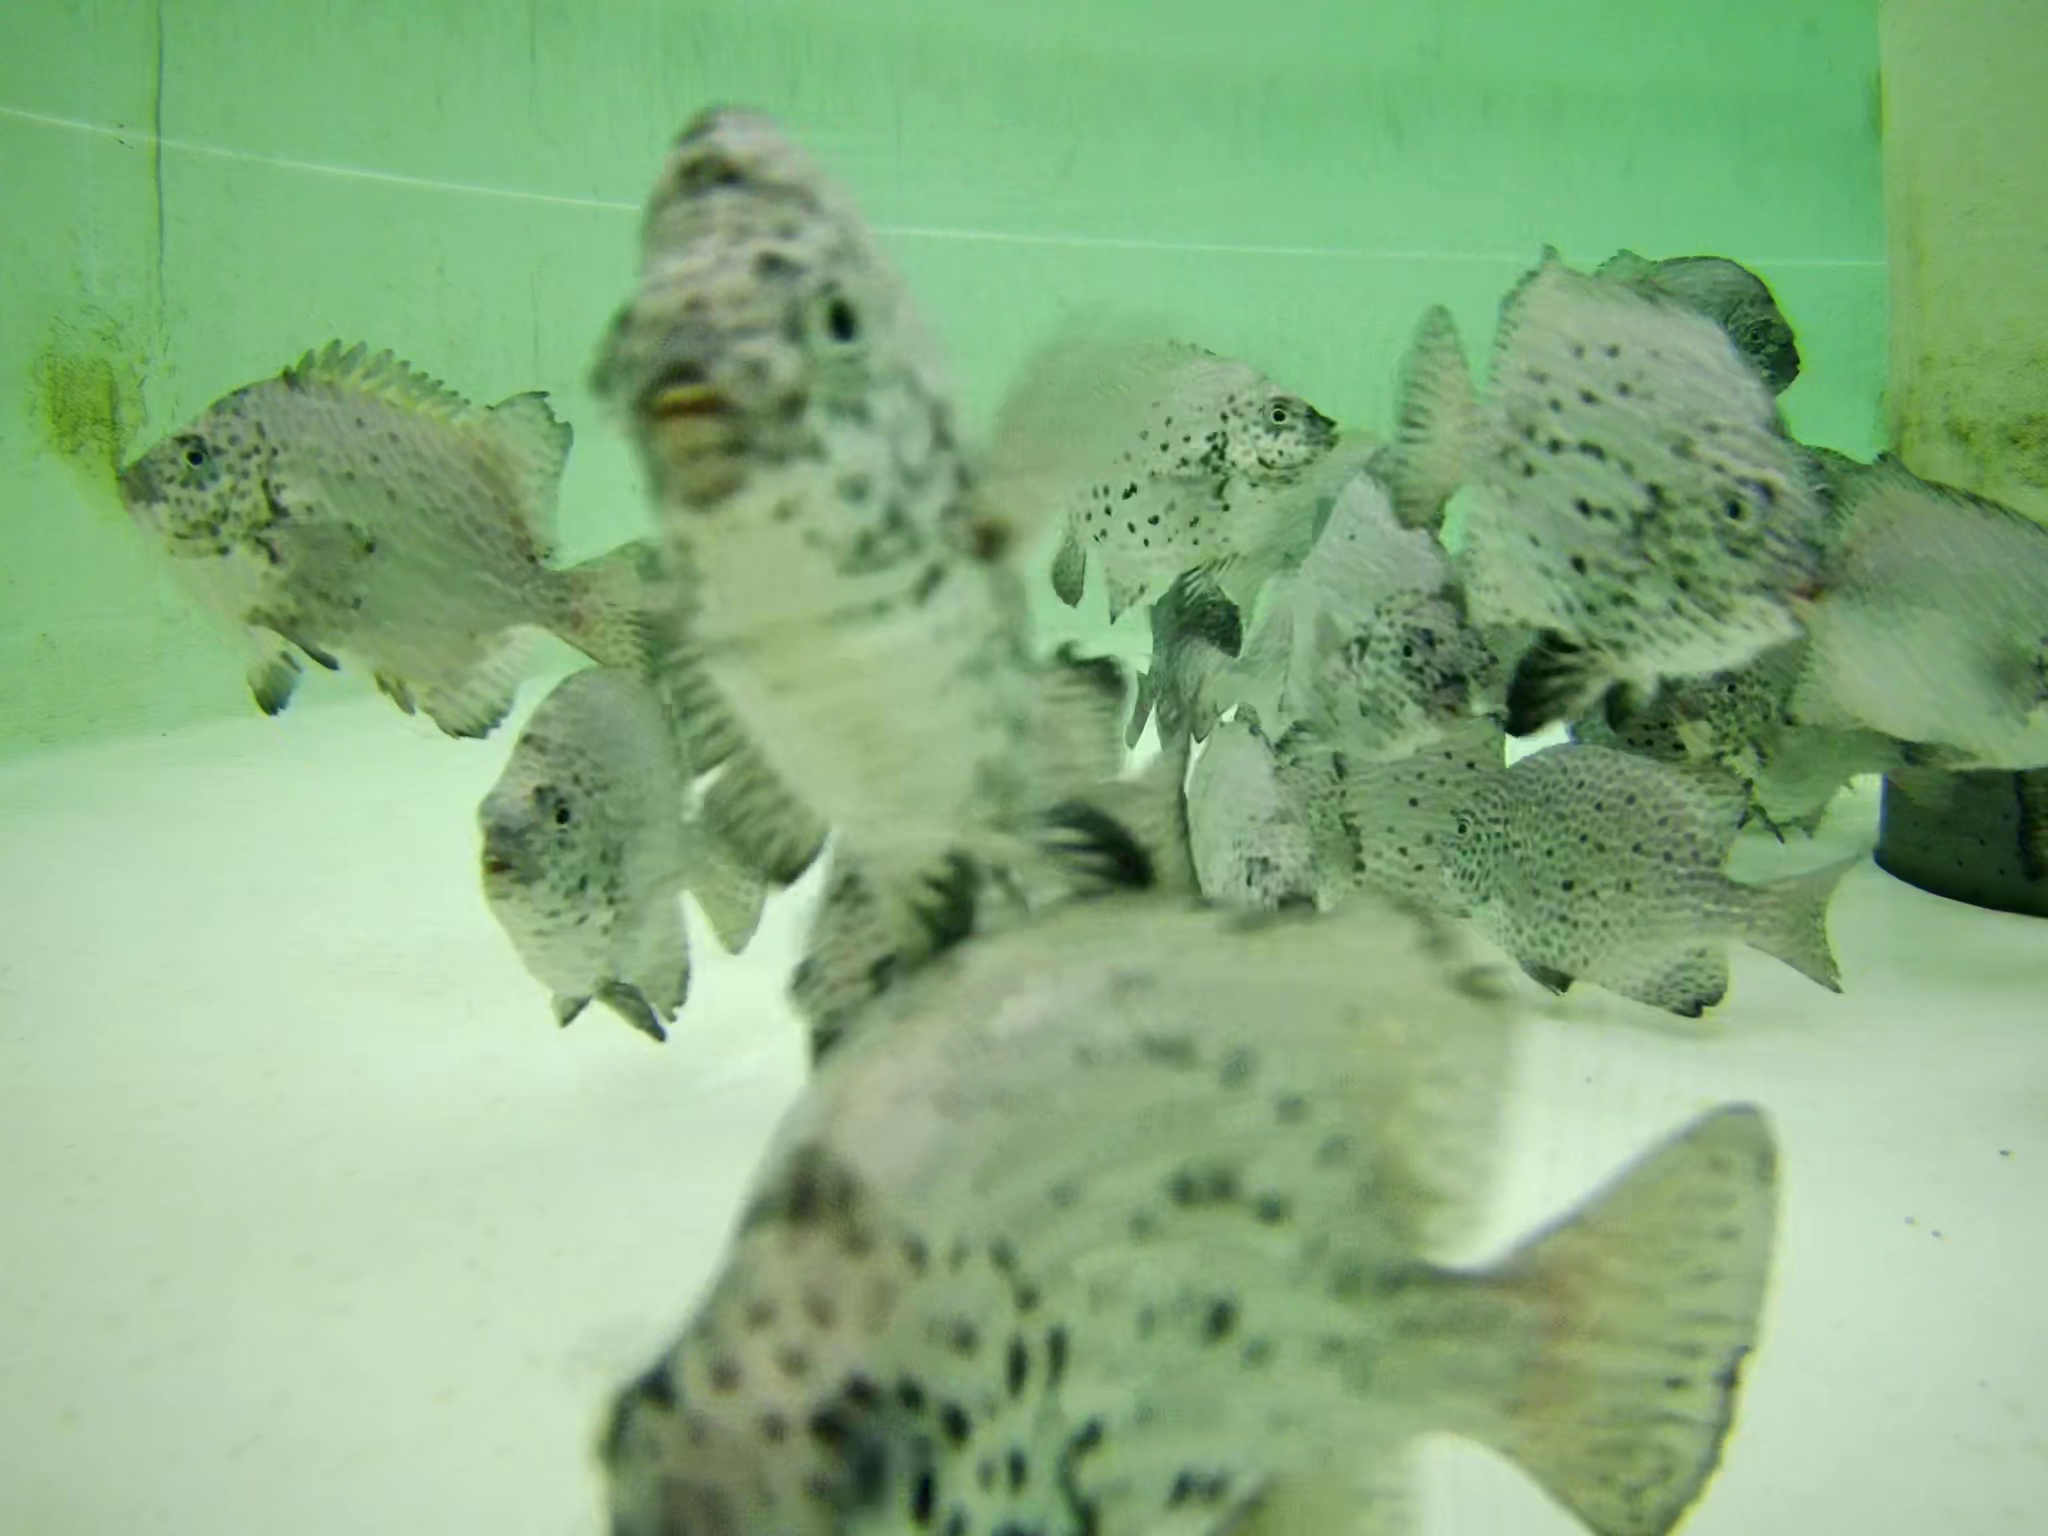fish: (561, 887, 1780, 1536), (603, 115, 1140, 887), (114, 345, 703, 716), (1380, 255, 1813, 684), (1445, 736, 1866, 1021), (487, 660, 761, 1050), (1782, 457, 2048, 781), (1059, 350, 1351, 610), (1247, 750, 1530, 925), (1600, 242, 1801, 413), (1627, 702, 1932, 815), (808, 847, 966, 1050), (1185, 707, 1313, 923), (1348, 595, 1500, 723), (1132, 578, 1227, 757), (1680, 641, 1798, 774)
